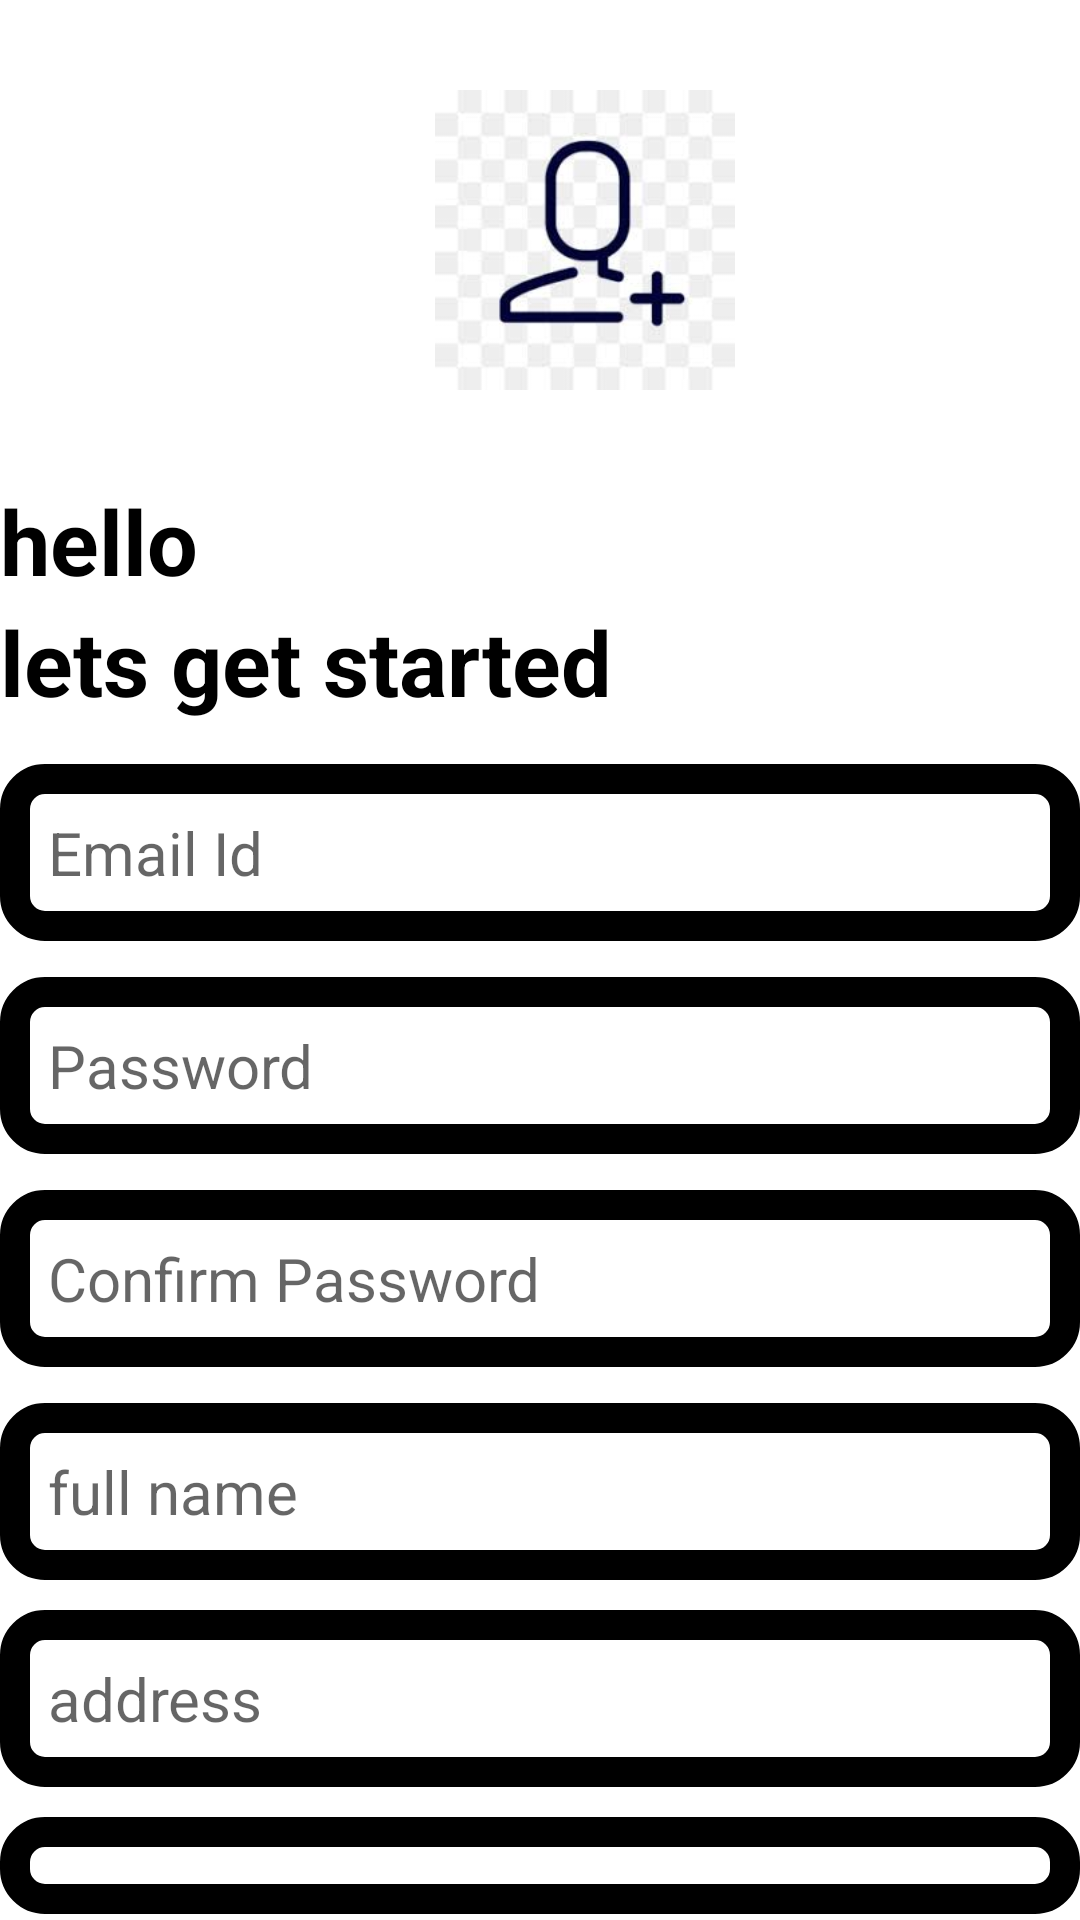

Icon bounding boxes for this 1080*1920 phone screenshot, format (left=x1, top=y1, right=x2, bottom=y2):
signup: (left=499, top=114, right=686, bottom=366)
